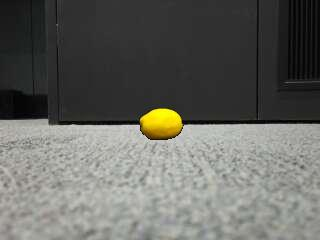lemon: (140, 109, 182, 139)
